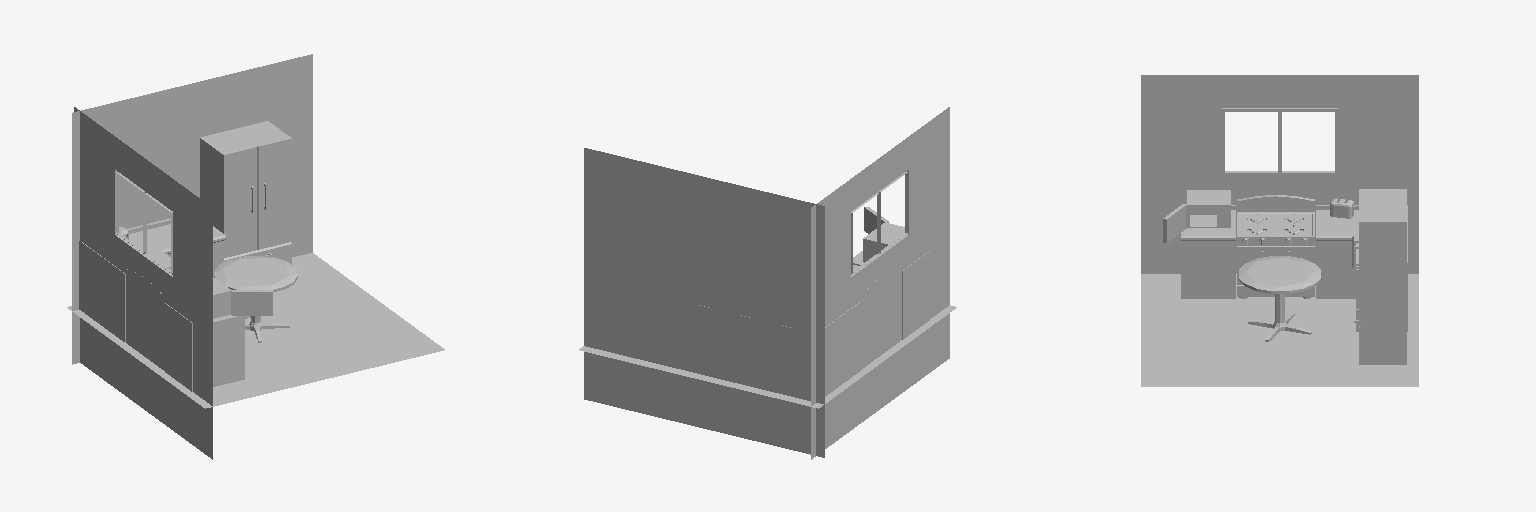
Rendered from kitchenmap1.obj.
3 views of the same model, side by side, from view 1: azimuth 30°, elevation 25°; view 2: azimuth 150°, elevation 25°; view 3: azimuth 270°, elevation 25° (orthographic).
Parts seen in each view (by area): view 1: Left_Wall, Right_Wall, Floor, Fridge, Counter, Oven, Table, Microwave_Door, Microwave; view 2: Right_Wall, Left_Wall, Counter, Oven, Floor, Microwave; view 3: Left_Wall, Floor, Fridge, Counter, Oven, Table, Microwave, Microwave_Door.
Part boxes in pixels (x1,y1,x2,y2): Left_Wall: (74, 107, 212, 459); Right_Wall: (72, 54, 312, 364); Floor: (67, 253, 444, 408); Fridge: (200, 121, 291, 264); Counter: (79, 218, 248, 391); Oven: (126, 269, 170, 368); Table: (214, 256, 297, 342); Microwave_Door: (231, 290, 272, 315); Microwave: (213, 277, 231, 318); Right_Wall: (584, 148, 824, 457); Left_Wall: (811, 107, 949, 459); Counter: (698, 251, 929, 402); Oven: (853, 265, 901, 365); Floor: (579, 305, 956, 408); Microwave: (863, 222, 904, 262); Left_Wall: (1141, 75, 1418, 273); Floor: (1141, 274, 1418, 386); Fridge: (1359, 189, 1406, 364); Counter: (1181, 205, 1407, 331); Oven: (1237, 195, 1314, 298); Table: (1239, 256, 1320, 341); Microwave: (1187, 190, 1230, 227); Microwave_Door: (1163, 204, 1186, 242).
Size of the model in its own units: 56.58 by 56.61 by 56.58.